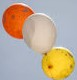Balloon: (23, 13, 57, 53), (42, 48, 75, 78)
